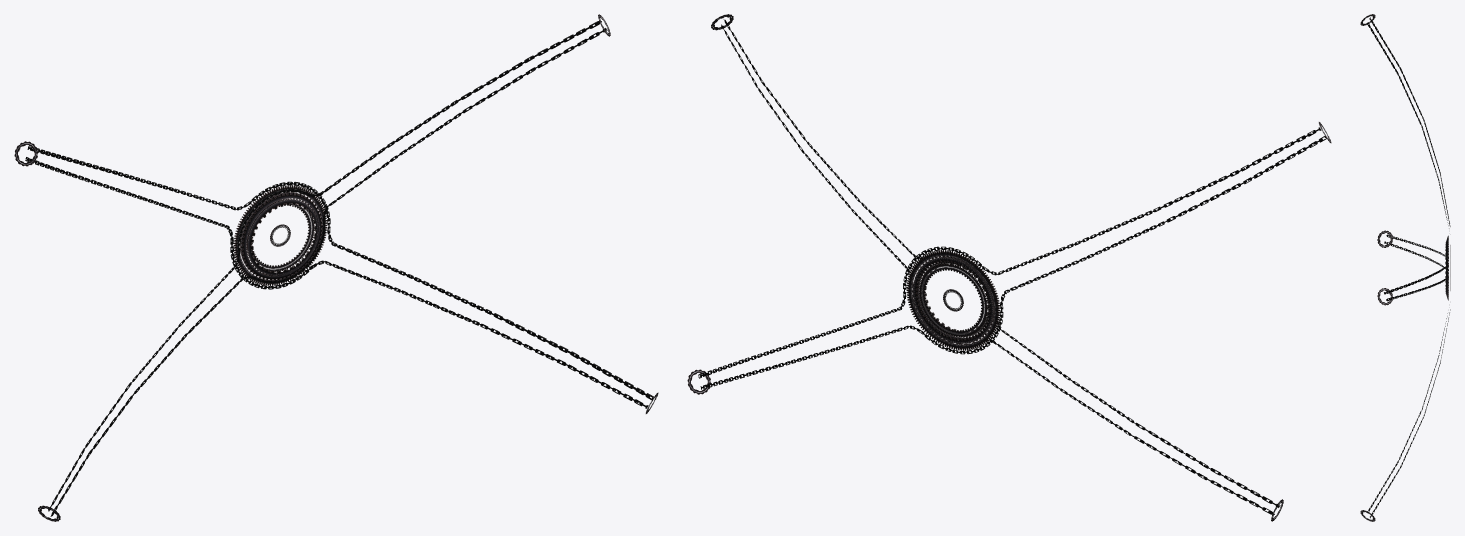
File: Prop_GearSet_Single.fbx
3 renders of one model, left to right at view 1: azimuth 30°, elevation 25°; view 2: azimuth 150°, elevation 25°; view 3: azimuth 270°, elevation 25°, orthographic. The views are drawn at different scales.
Visible parts, largest first — view 1: GearChainLargeMesh, GearLargeMesh; view 2: GearChainLargeMesh, GearLargeMesh; view 3: GearChainLargeMesh.
Boxes of the visible parts, x1,y1,x2,y2 form: GearChainLargeMesh: (14, 14, 658, 521); GearLargeMesh: (246, 198, 314, 272); GearChainLargeMesh: (687, 14, 1331, 521); GearLargeMesh: (918, 263, 987, 337); GearChainLargeMesh: (1360, 14, 1450, 521).
Size of the model in its own units: 54.47 by 34.26 by 9.5.
